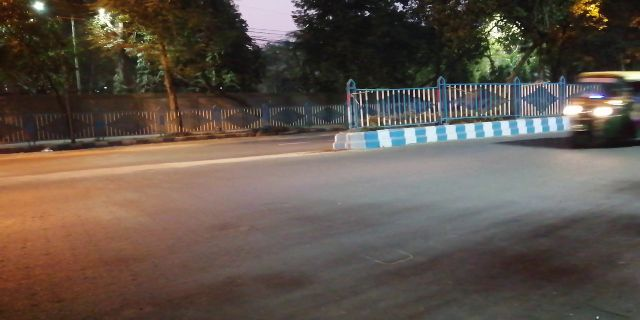Autorickshaw: (557, 69, 636, 142)
